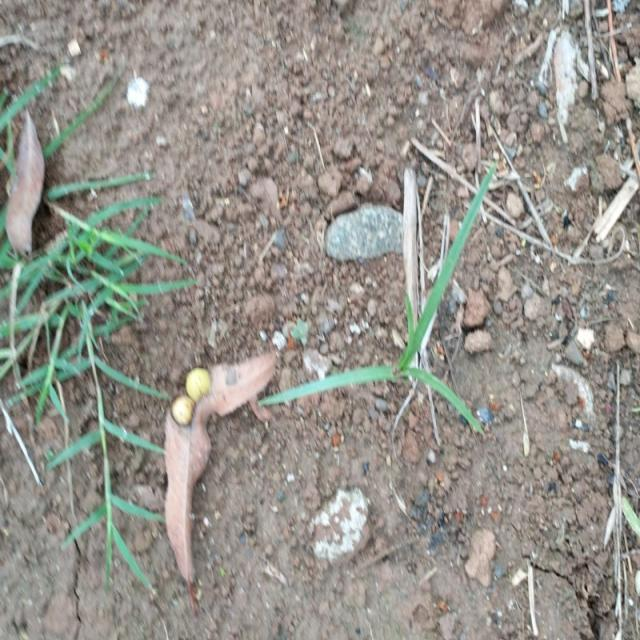sedge: (244, 175, 556, 494)
